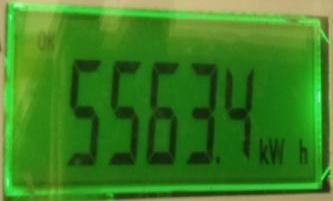.: (255, 133, 312, 167)
0: (214, 155, 224, 166)
4: (184, 63, 219, 161)
5: (222, 63, 258, 161)
6: (63, 60, 102, 164), (105, 59, 140, 167)
7: (144, 61, 180, 165)
